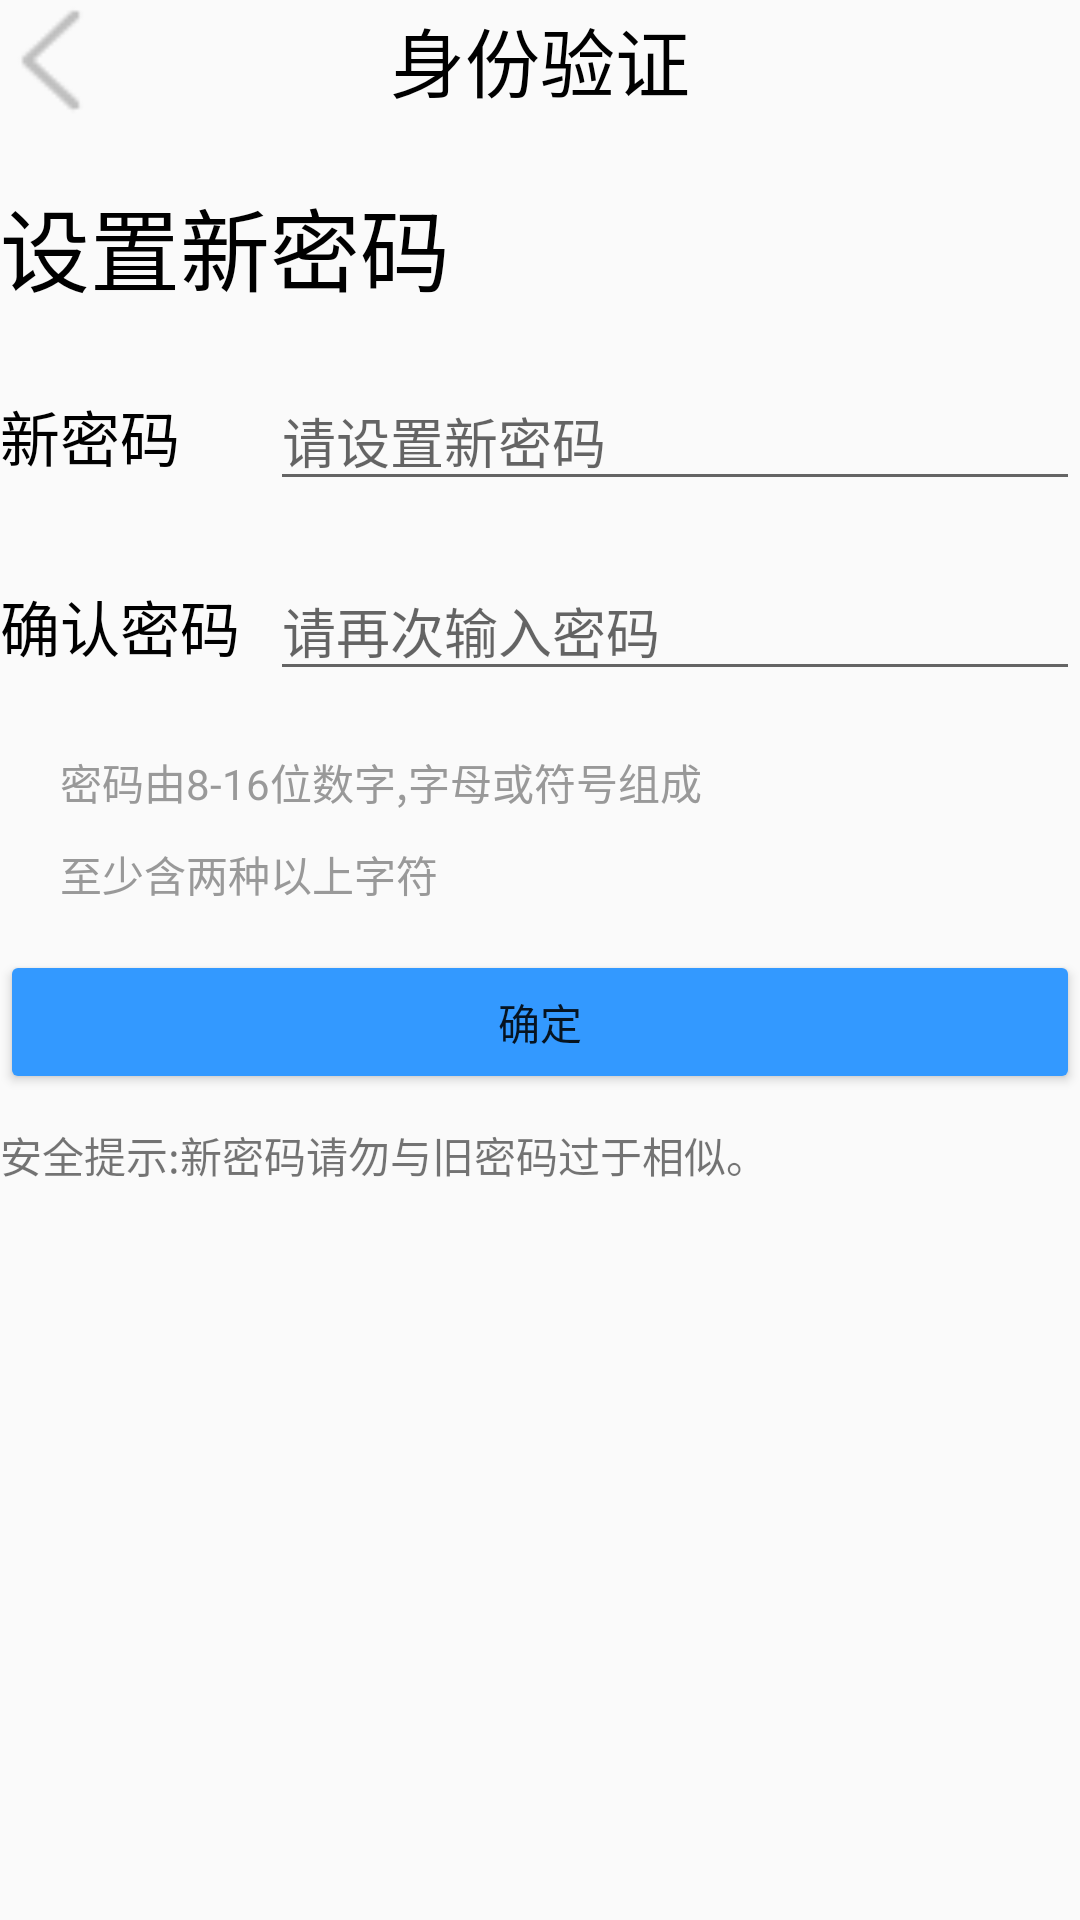

Screen size 1080*1920. Icon name, then its center in pixels as (x,y):
back: (50,60)
